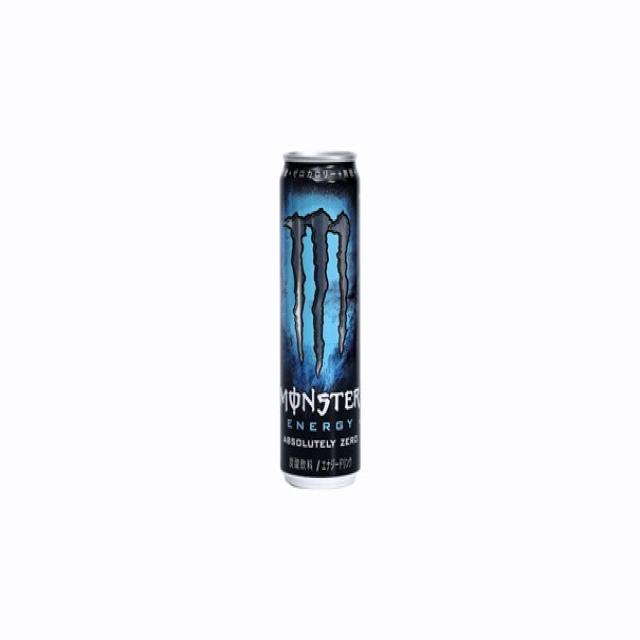Cans: (260, 128, 382, 505)
